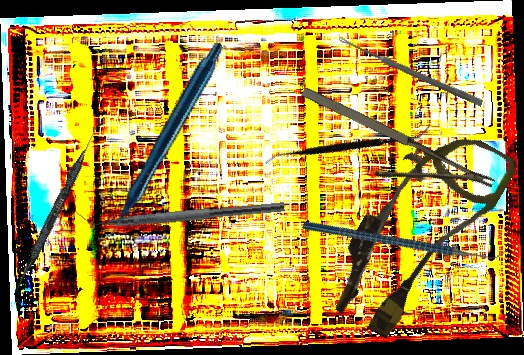Cannula: (316, 109, 521, 353)
Chopper: (302, 156, 508, 320), (75, 187, 285, 234)
Handpiece: (43, 41, 275, 242)
Needle Holder: (284, 81, 496, 226)
Spatula Surgical: (264, 65, 431, 225), (12, 118, 104, 295)
Surgical Spoon: (337, 35, 484, 107)
